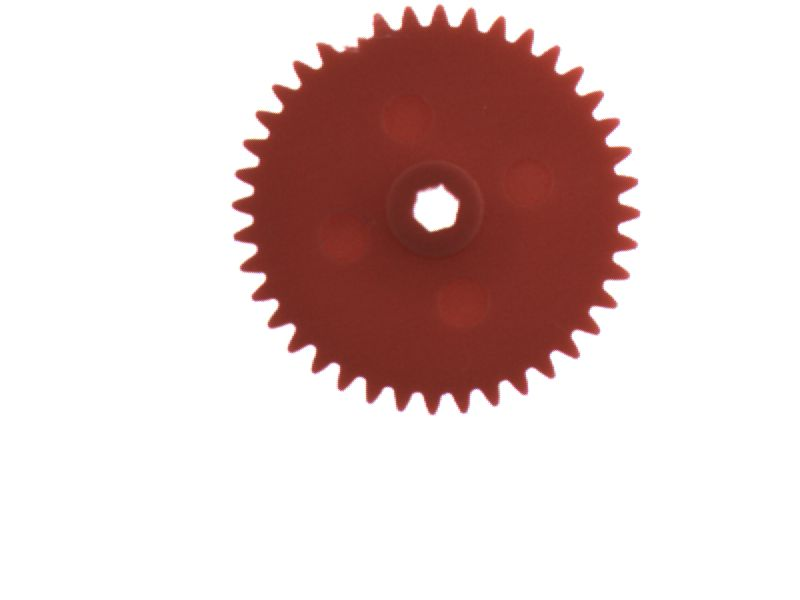defect_lack: (331, 14, 382, 63)
